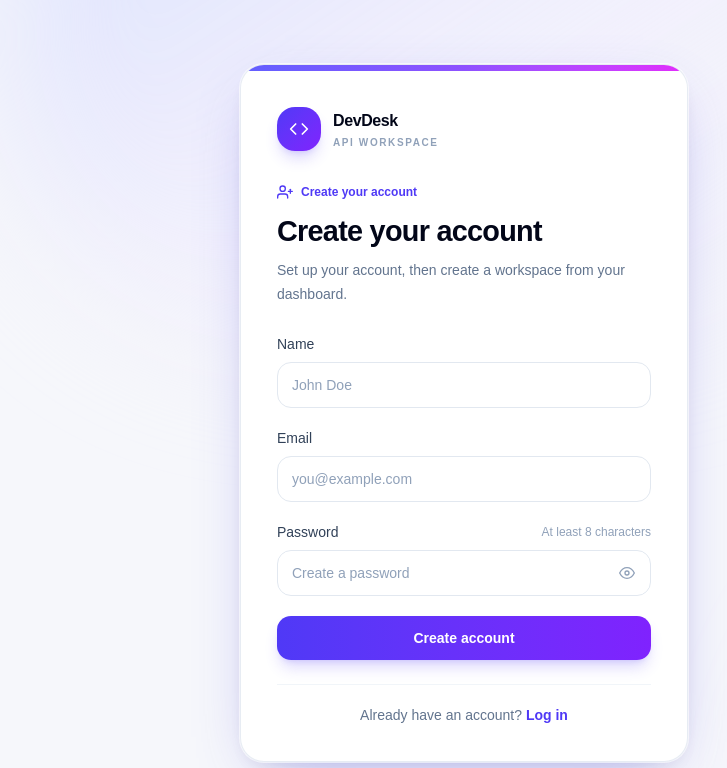
Test: Signup validation › shows required errors for empty fields
The image size is (727, 768).
Click the button "Create account" at {"x": 464, "y": 638}, box 277,616 -> 651,660
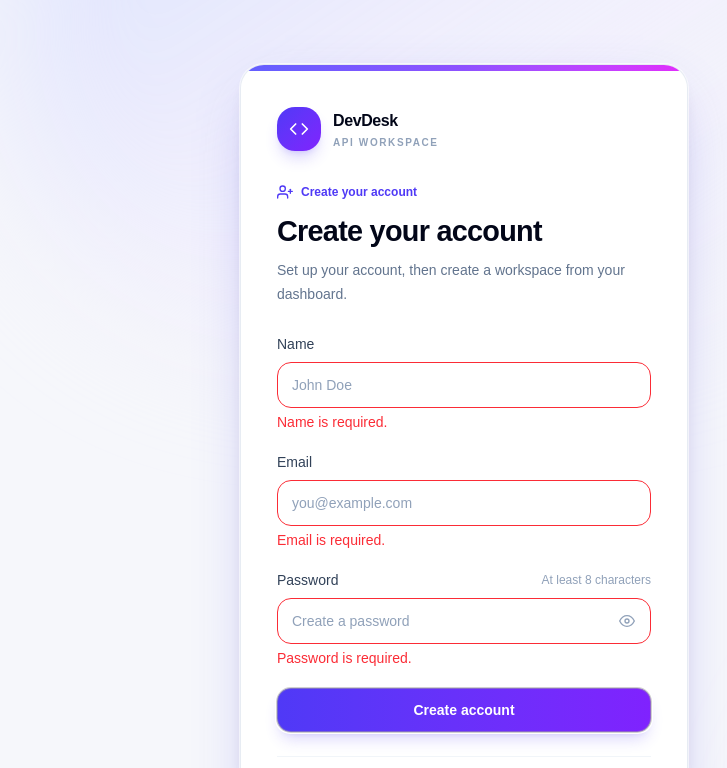
Now the text "Name is required." is shown, box 277,414 -> 388,430
Now the text "Email is required." is shown, box 277,532 -> 385,548
Now the text "Password is required." is shown, box 277,650 -> 412,666
